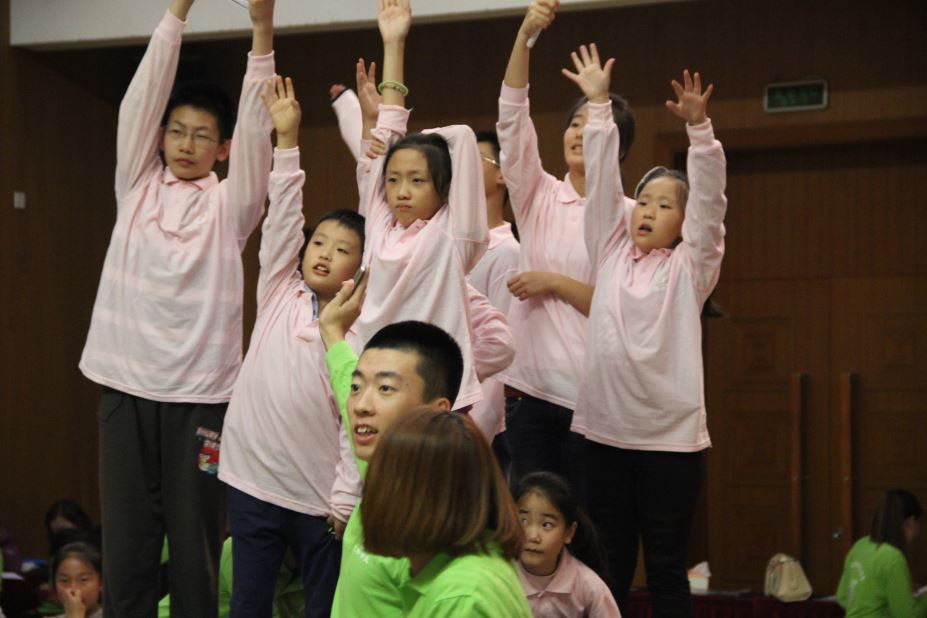handsup: (557, 40, 748, 593), (89, 1, 263, 595), (363, 5, 504, 418)
